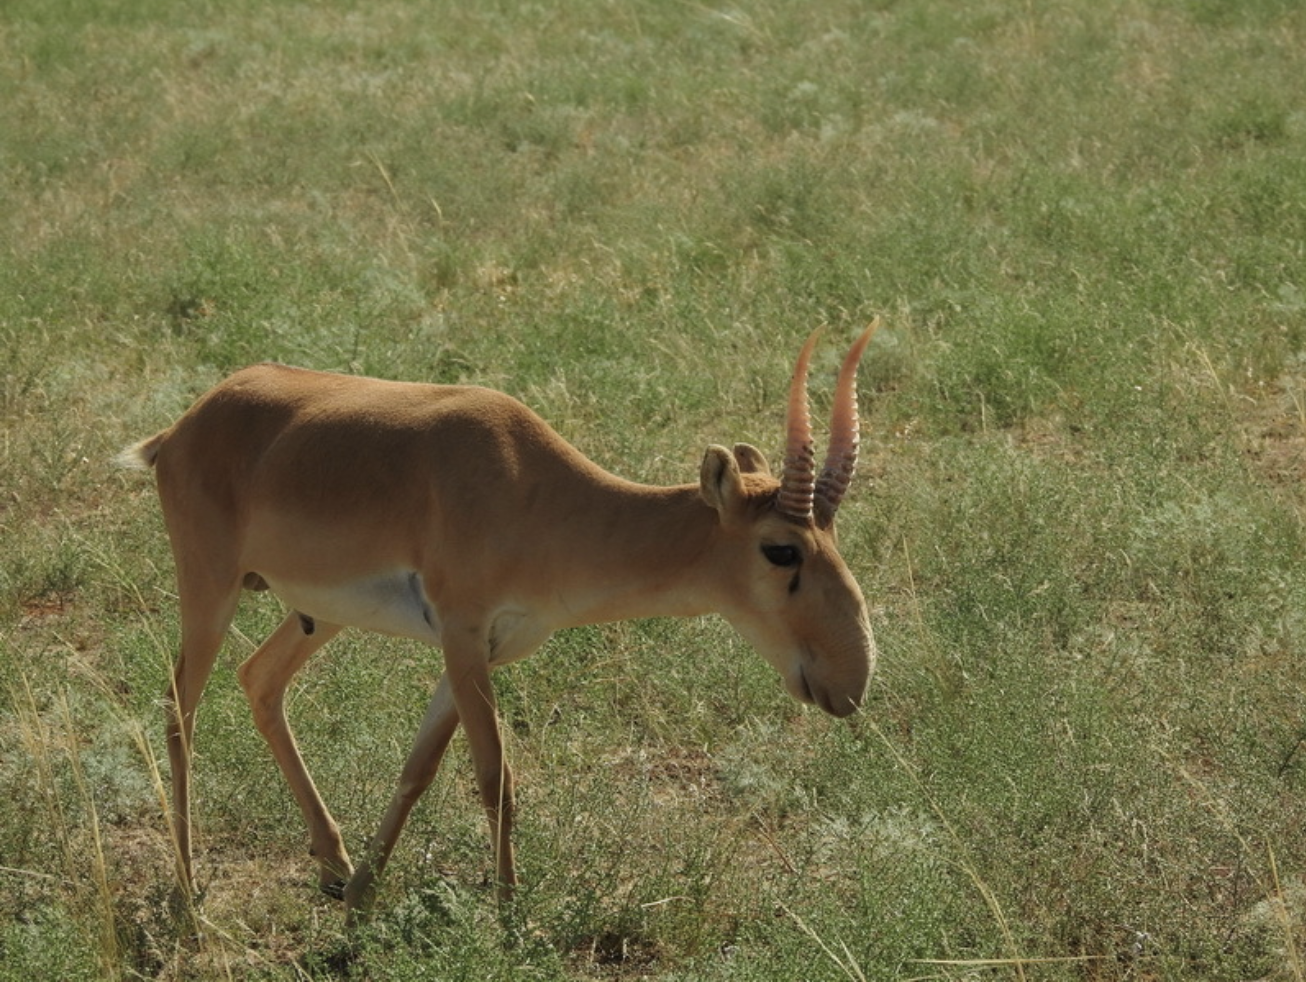saiga: (128, 312, 903, 942)
